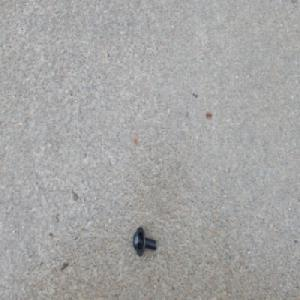BoltWasher: (132, 226, 157, 257)
